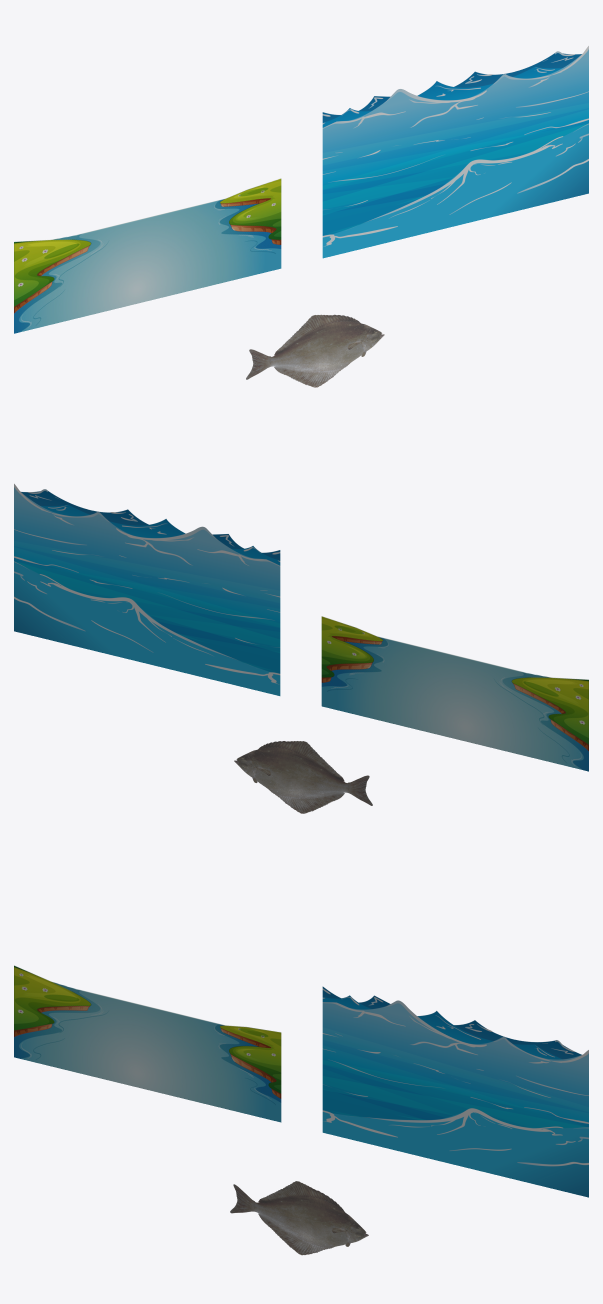
The model's file is Game_Fish.glb.
3 renders of one model, top to bottom at view 1: azimuth 30°, elevation 25°; view 2: azimuth 150°, elevation 25°; view 3: azimuth 330°, elevation 25°, orthographic.
Visible parts, largest first — view 1: Sea, Lake, Halibut; view 2: Sea, Lake, Halibut; view 3: Sea, Lake, Halibut.
Part boxes in pixels (<box>): Sea: <box>322,46,588,258</box>; Lake: <box>14,178,281,333</box>; Halibut: <box>246,314,384,387</box>; Sea: <box>14,484,280,695</box>; Lake: <box>321,616,588,771</box>; Halibut: <box>234,741,372,813</box>; Sea: <box>322,986,588,1197</box>; Lake: <box>14,965,281,1122</box>; Halibut: <box>230,1181,368,1255</box>.
Size of the model in its own units: 8.22 by 4.27 by 0.1964.
Materials: 3 (3 with a texture image).
